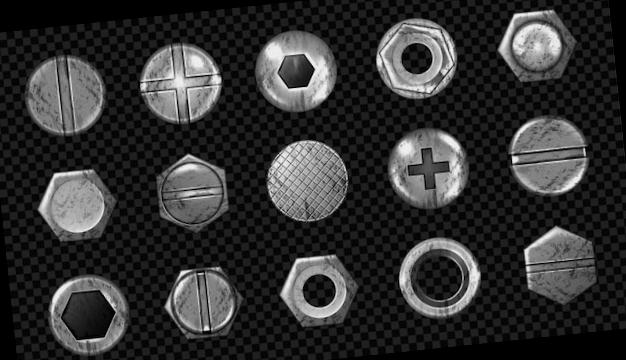screw: (33, 164, 121, 246), (151, 148, 233, 234), (495, 5, 581, 85), (162, 262, 245, 342), (524, 220, 600, 306)
